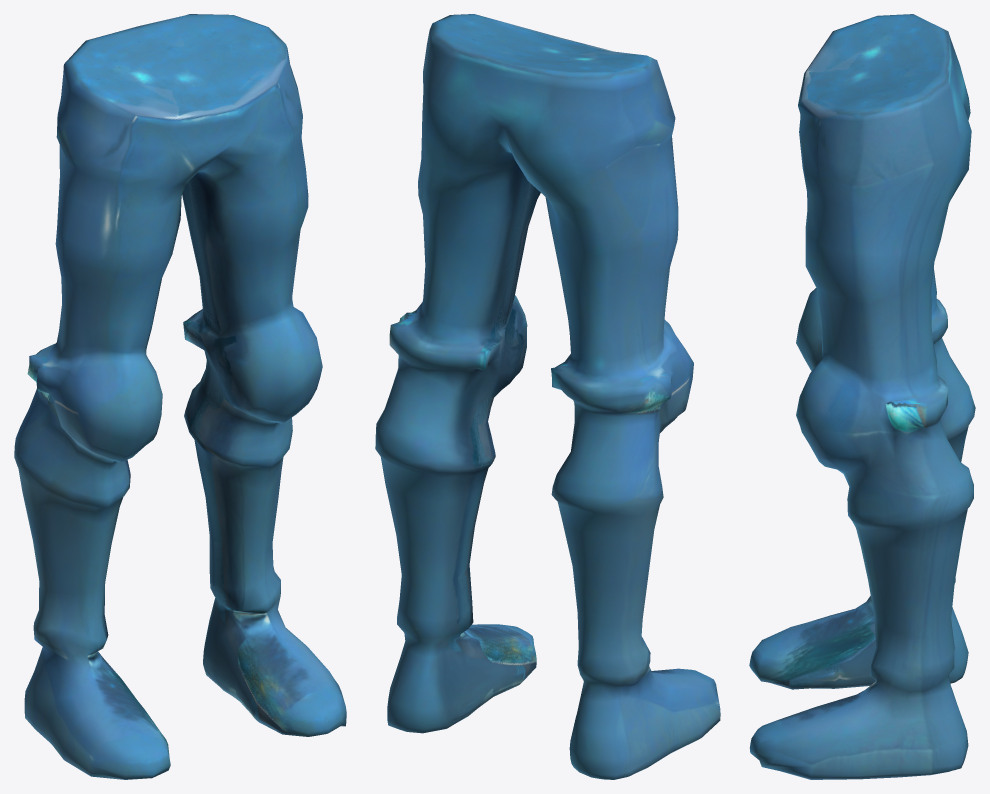
Rendered from legs-metal-01-mithril.glb.
3 views of the same model, side by side, from view 1: azimuth 30°, elevation 25°; view 2: azimuth 150°, elevation 25°; view 3: azimuth 270°, elevation 25° (orthographic). The views are drawn at different scales.
Bounding box in the file's own units: 0.8389 × 2 × 0.6168.
1 material, 1 textured.
